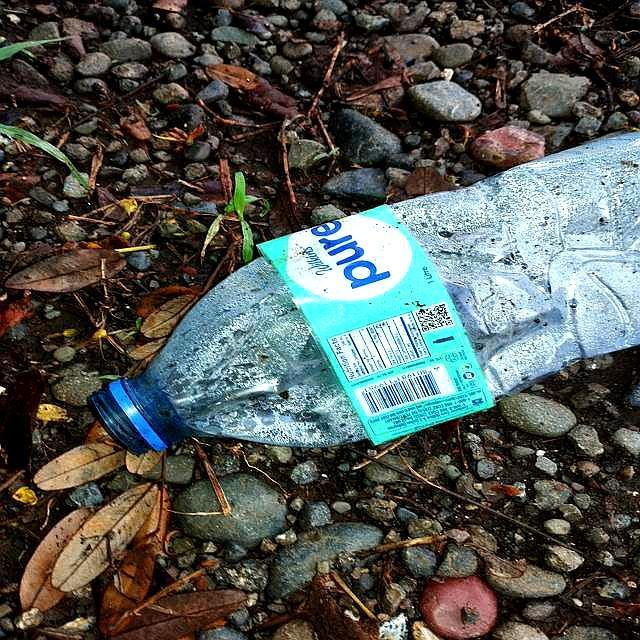Non-biodegradable: (67, 121, 640, 463)
